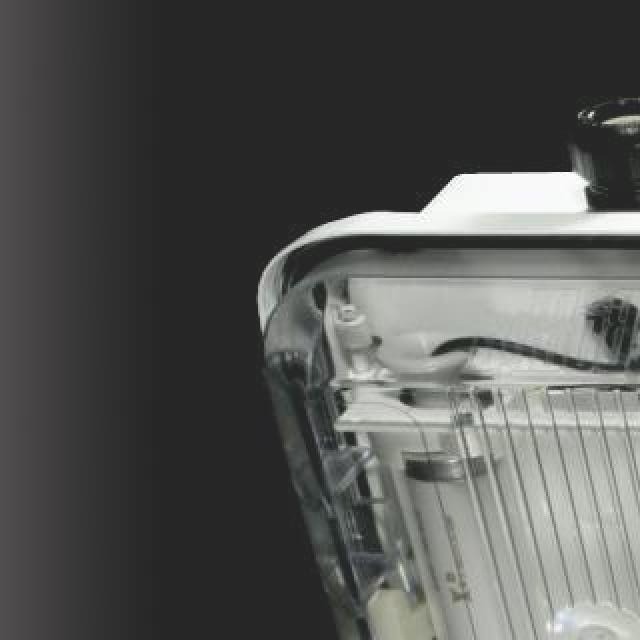fluorescent tube: (388, 372, 640, 640)
